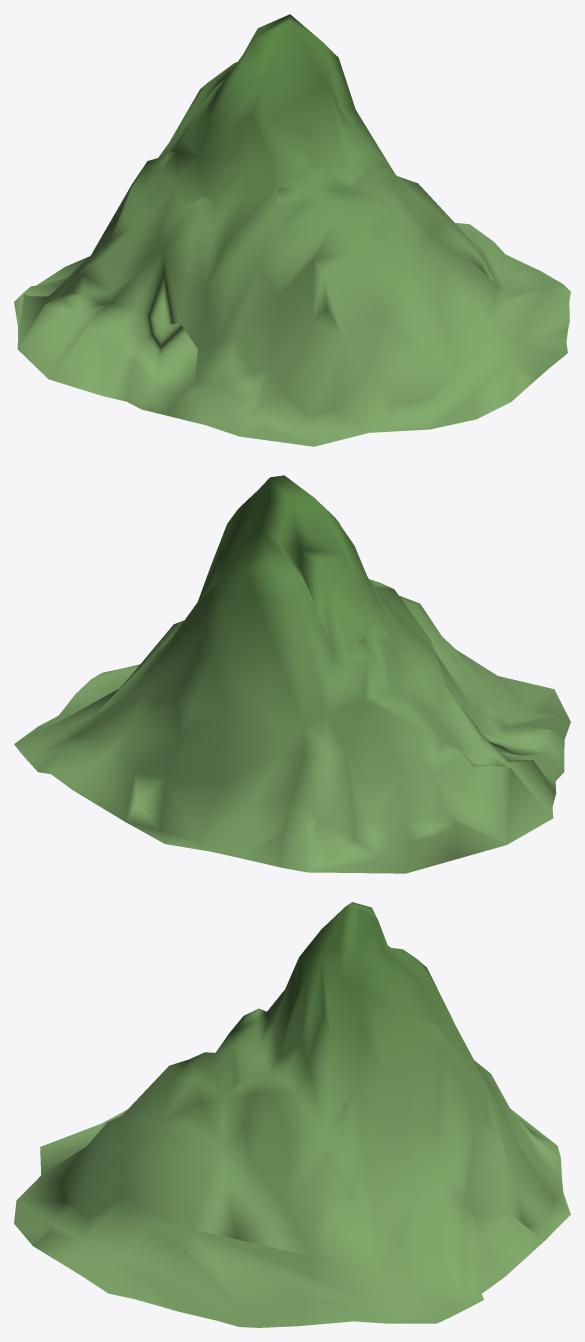
File: shan.fbx
The picture shows the model from 3 angles, top to bottom: view 1: azimuth 30°, elevation 25°; view 2: azimuth 150°, elevation 25°; view 3: azimuth 270°, elevation 25°; orthographic projection. The views are drawn at different scales.
Parts seen in each view (by area): view 1: Obj3d66-13580844-1177-408; view 2: Obj3d66-13580844-1177-408; view 3: Obj3d66-13580844-1177-408.
Boxes of the visible parts, box(x1,y1,x2,y2) form: Obj3d66-13580844-1177-408: box(14, 14, 570, 446); Obj3d66-13580844-1177-408: box(14, 475, 570, 873); Obj3d66-13580844-1177-408: box(14, 902, 570, 1327).
Size of the model in its own units: 428 by 245 by 405.
